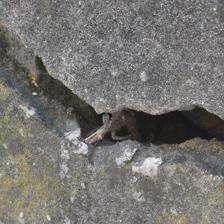Crack: (35, 54, 222, 162)
